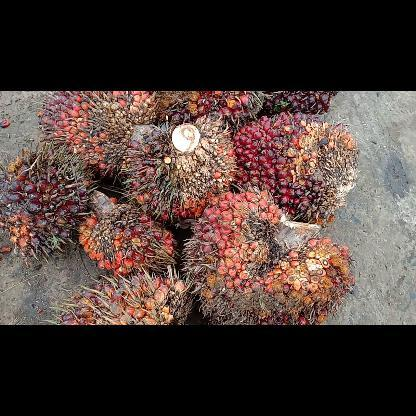TBS masak: (186, 190, 352, 324), (233, 113, 361, 227), (119, 124, 235, 224), (0, 148, 94, 258), (38, 91, 156, 174), (77, 194, 181, 274), (54, 274, 192, 324), (158, 93, 260, 131), (262, 92, 338, 118)
